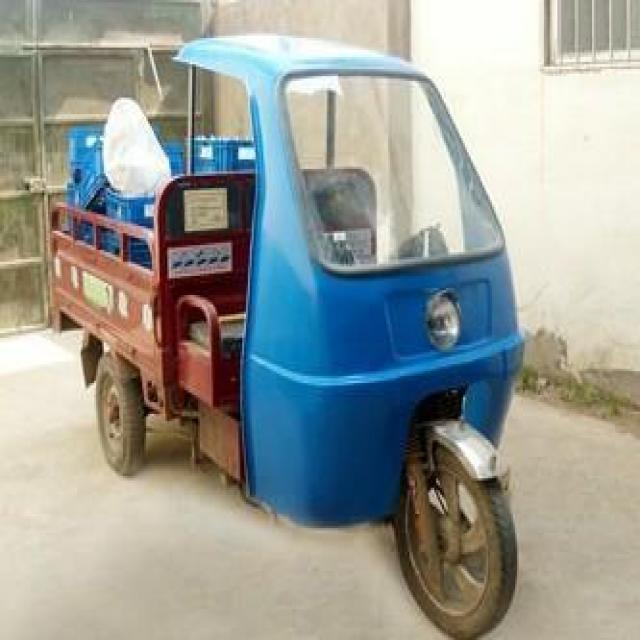tricycle: (44, 31, 523, 633)
